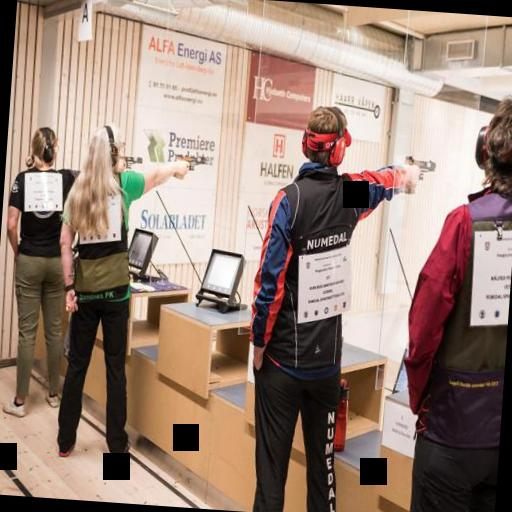Handgun: (398, 149, 436, 199), (173, 150, 201, 181), (117, 149, 144, 170)
